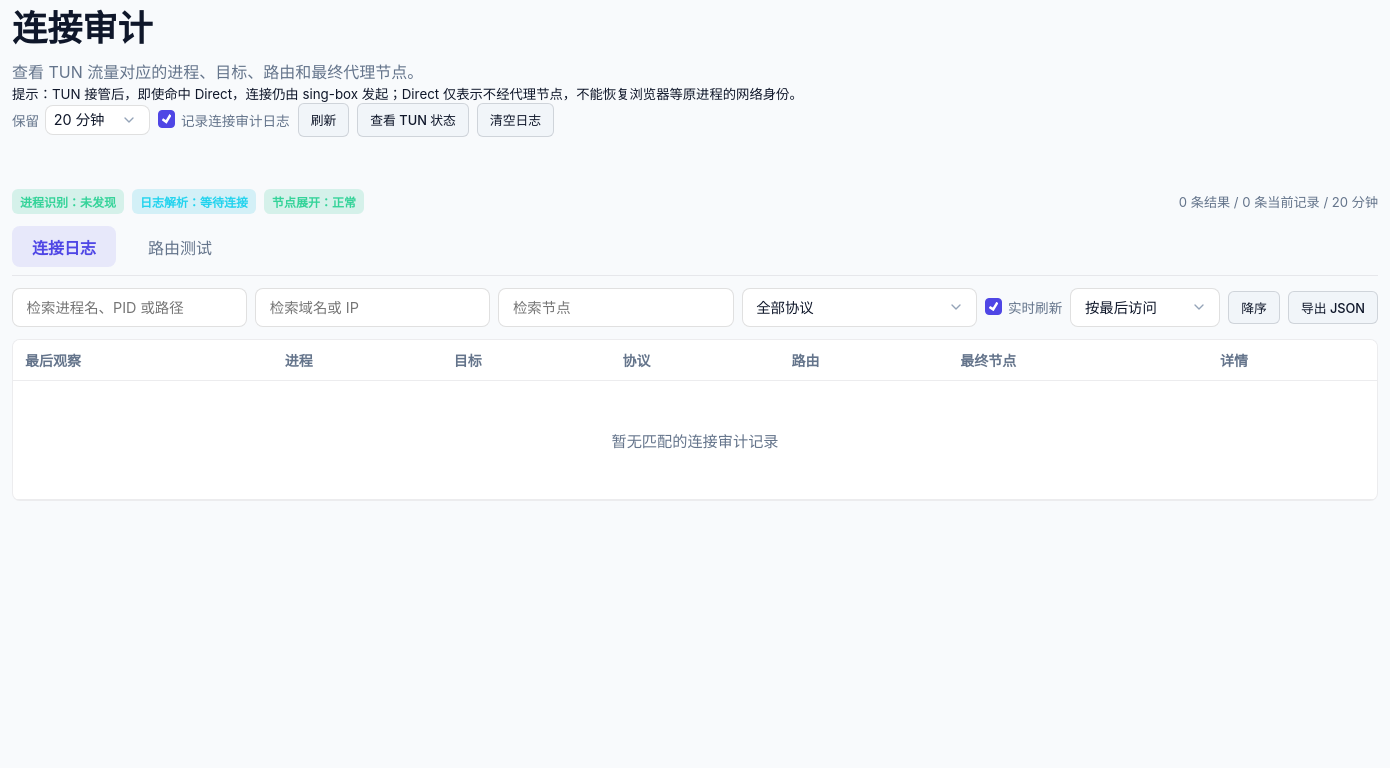
Test: ConnectionAuditView › shows the generated TUN capture, DNS and route settings on demand
Click the button "查看 TUN 状态". click: point(413, 120)
box: [357, 103, 469, 137]
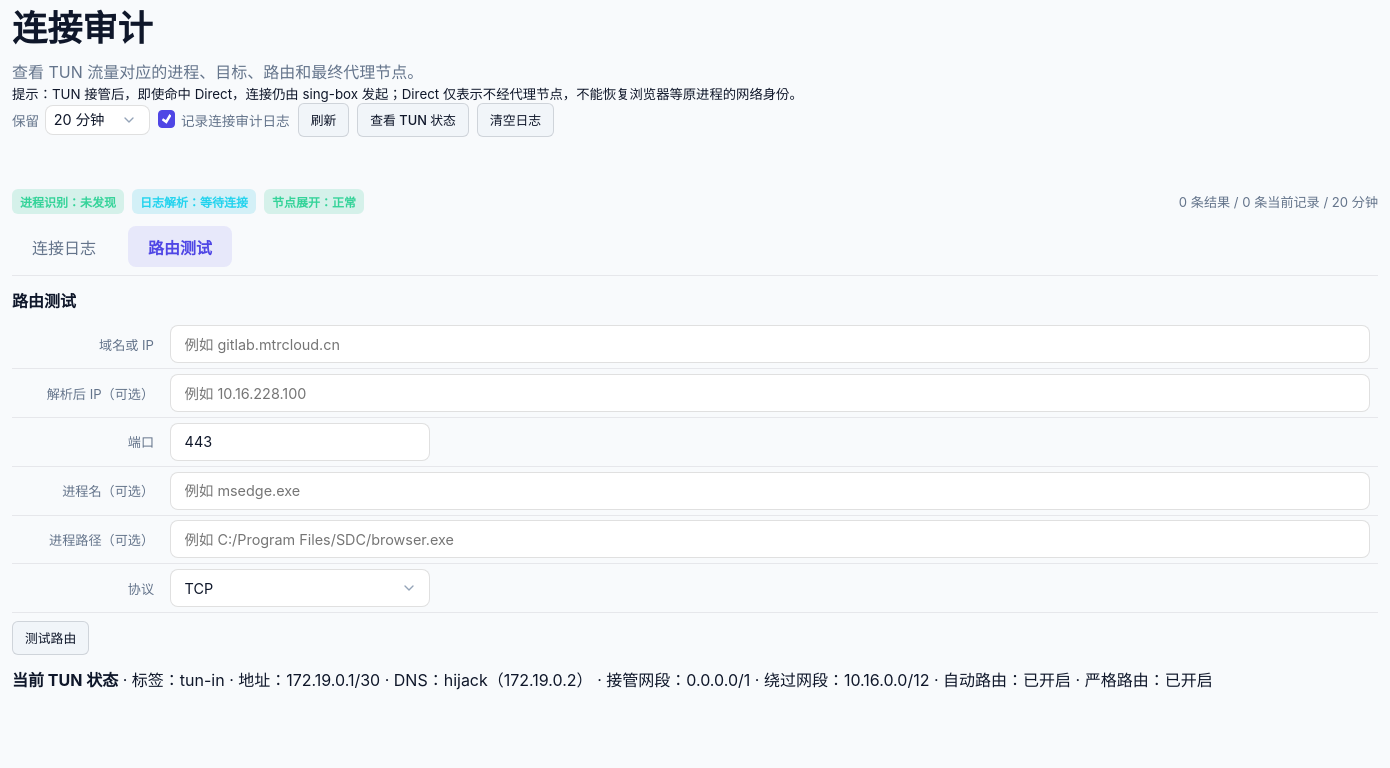
Expected: the text "当前 TUN 状态" is shown, [12, 670, 118, 690]
Expected: the text "172.19.0.1/30" is shown, [225, 670, 380, 690]
Expected: the text "hijack" is shown, [380, 670, 593, 690]
